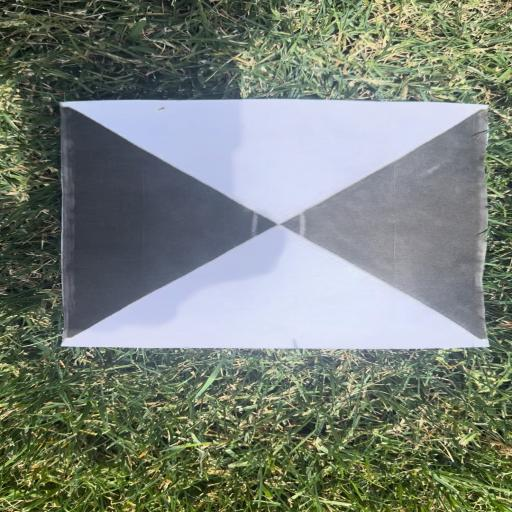target: (59, 102, 492, 348)
